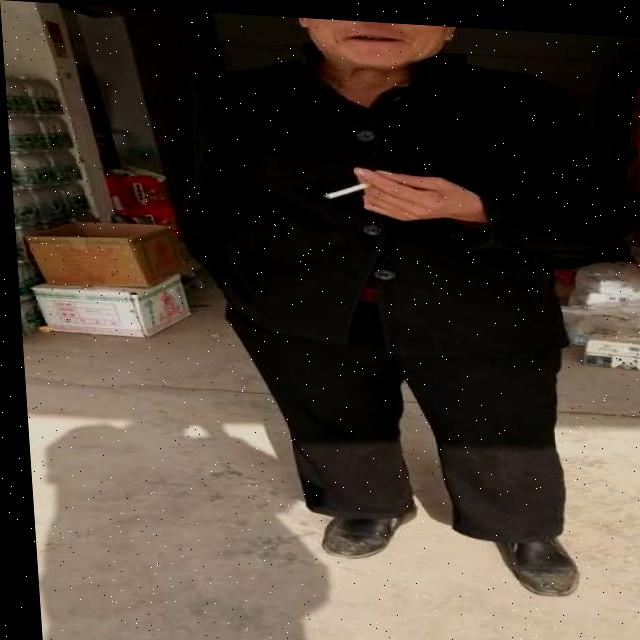cigarette: (323, 177, 371, 196)
